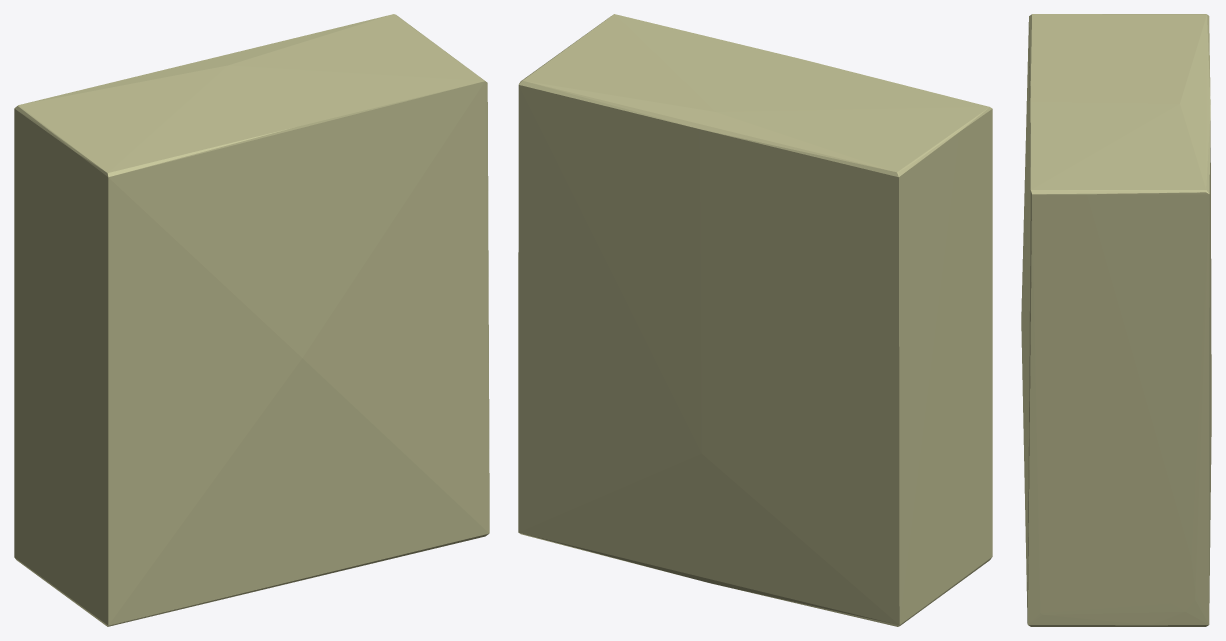
File: box_multiDepth_a08.glb
The picture shows the model from 3 angles, left to right: view 1: azimuth 30°, elevation 25°; view 2: azimuth 150°, elevation 25°; view 3: azimuth 270°, elevation 25°; orthographic projection. The views are drawn at different scales.
Visible parts, largest first — view 1: geometry_0; view 2: geometry_0; view 3: geometry_0.
Boxes of the visible parts, <box> form: geometry_0: <box>14,14,489,626</box>; geometry_0: <box>518,14,992,626</box>; geometry_0: <box>1021,14,1211,626</box>.
Bounding box in the file's own units: 0.4175 × 0.4798 × 0.188.
